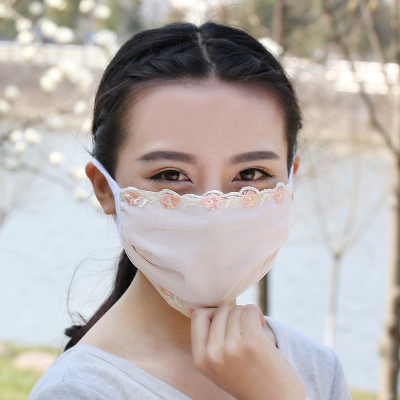face_mask: (113, 81, 288, 314)
